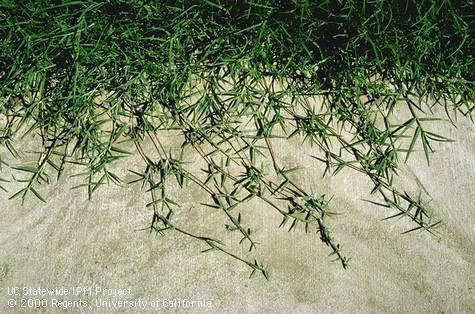crabgrass: (10, 8, 443, 205)
